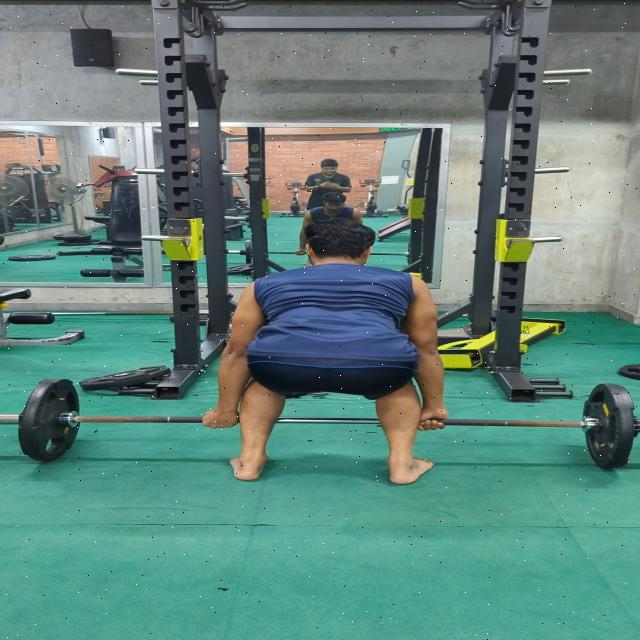Normal_Deadlifts: (196, 218, 448, 485)
